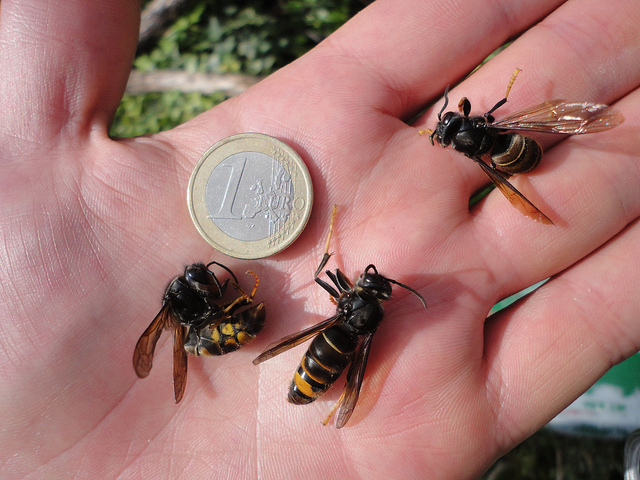hornet: (423, 83, 616, 219), (278, 247, 413, 419), (130, 240, 277, 389)
